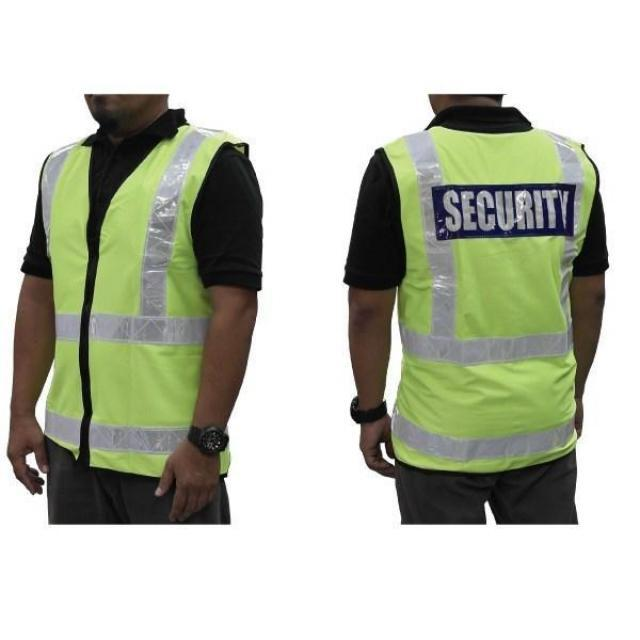person_with_vest: (331, 122, 640, 586), (25, 118, 298, 519)
